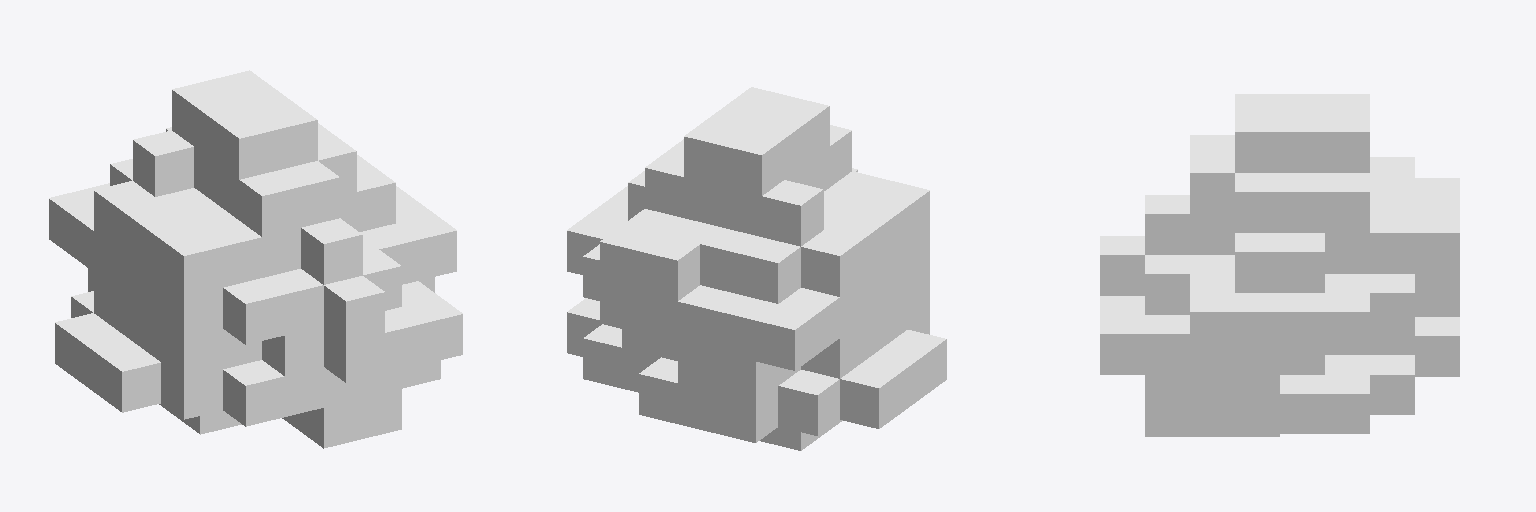
File: Combiner-0-poof.obj
3 views of the same model, side by side, from view 1: azimuth 30°, elevation 25°; view 2: azimuth 150°, elevation 25°; view 3: azimuth 270°, elevation 25° (orthographic).
Visible parts, largest first — view 1: poof; view 2: poof; view 3: poof.
Part boxes in pixels (left/top/right/bottom): poof: left=49, top=70, right=462, bottom=448; poof: left=567, top=87, right=946, bottom=450; poof: left=1100, top=94, right=1459, bottom=436.
Bounding box in the file's own units: 0.8 × 0.7 × 0.8.